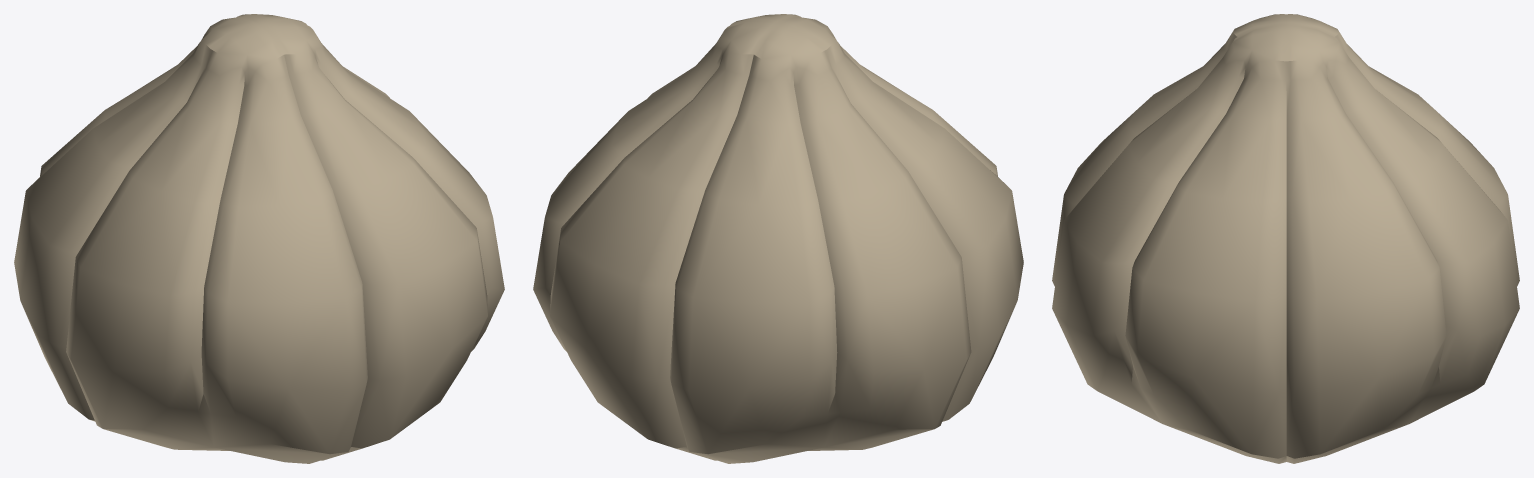
Rendered from chukaman.glb.
3 renders of one model, left to right at view 1: azimuth 30°, elevation 25°; view 2: azimuth 150°, elevation 25°; view 3: azimuth 270°, elevation 25°, orthographic.
Parts seen in each view (by area): view 1: Food_Chukaman; view 2: Food_Chukaman; view 3: Food_Chukaman.
Part boxes in pixels (left/top/right/bottom): Food_Chukaman: left=14, top=14, right=504, bottom=463; Food_Chukaman: left=533, top=14, right=1023, bottom=463; Food_Chukaman: left=1052, top=14, right=1519, bottom=463.
Bounding box in the file's own units: 0.2686 × 0.262 × 0.2686.
